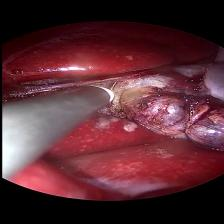Hook: (84, 78, 125, 104)
